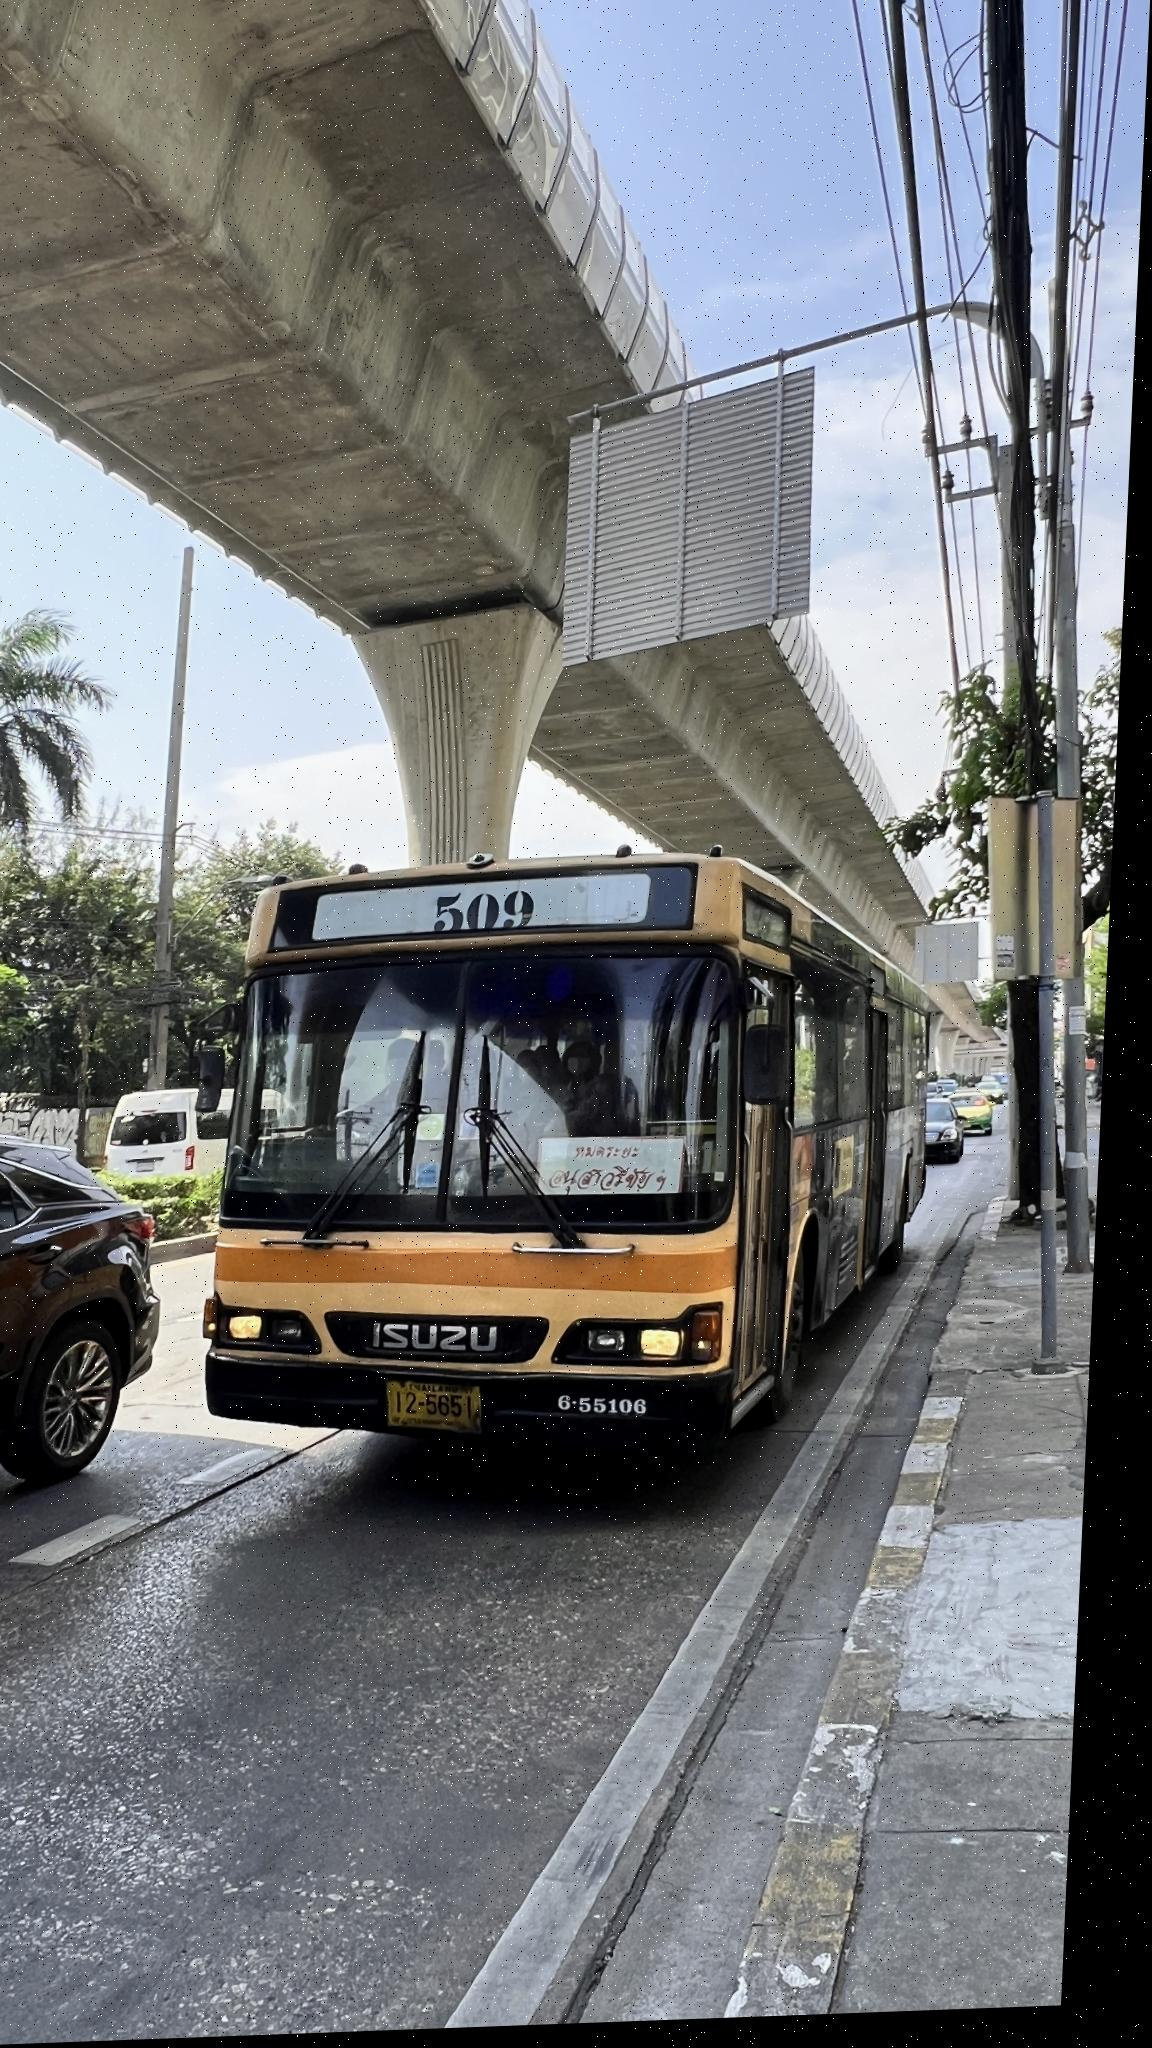BMTA-bus: (215, 862, 941, 1449)
Bus Line Number: (414, 886, 551, 947)
Bus Side Number: (557, 1388, 674, 1433)
Destination Sign: (543, 1138, 700, 1205)
